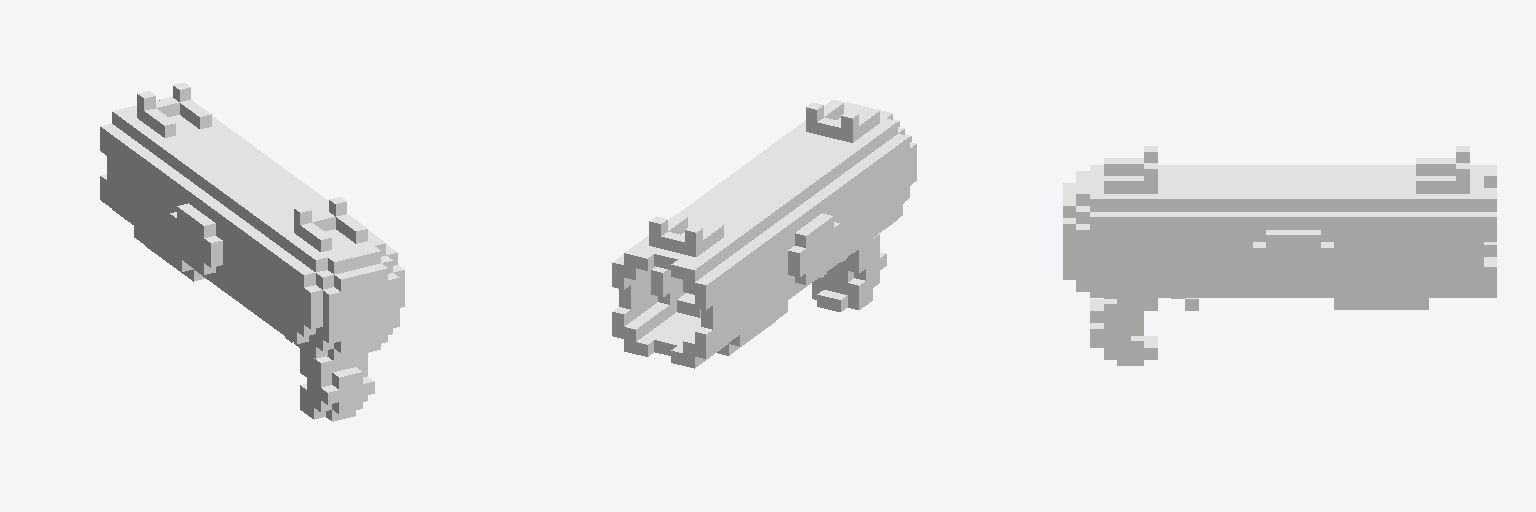
Rendered from GumGun.obj.
3 views of the same model, side by side, from view 1: azimuth 30°, elevation 25°; view 2: azimuth 150°, elevation 25°; view 3: azimuth 270°, elevation 25° (orthographic).
Parts seen in each view (by area): view 1: object 1; view 2: object 1; view 3: object 1.
Boxes of the visible parts, box(x1,y1,x2,y2) form: object 1: box(100, 82, 404, 421); object 1: box(612, 100, 916, 368); object 1: box(1063, 146, 1496, 365).
Size of the model in its own units: 1 by 1.6 by 3.2.